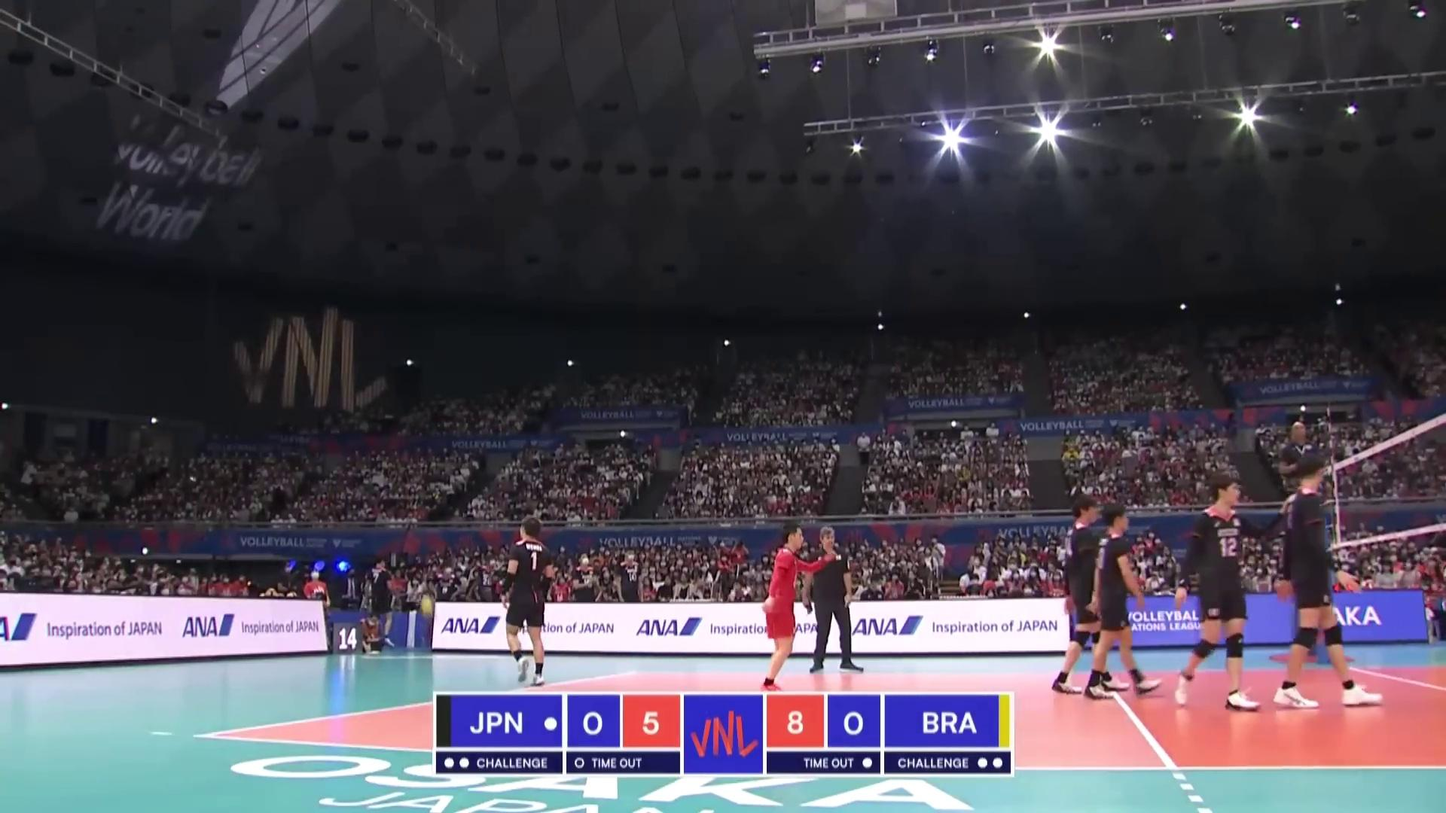player: (1272, 455, 1386, 708), (1180, 474, 1263, 711), (1087, 504, 1164, 699), (1054, 499, 1131, 691), (760, 522, 819, 692), (497, 519, 554, 685), (1278, 423, 1326, 565)
